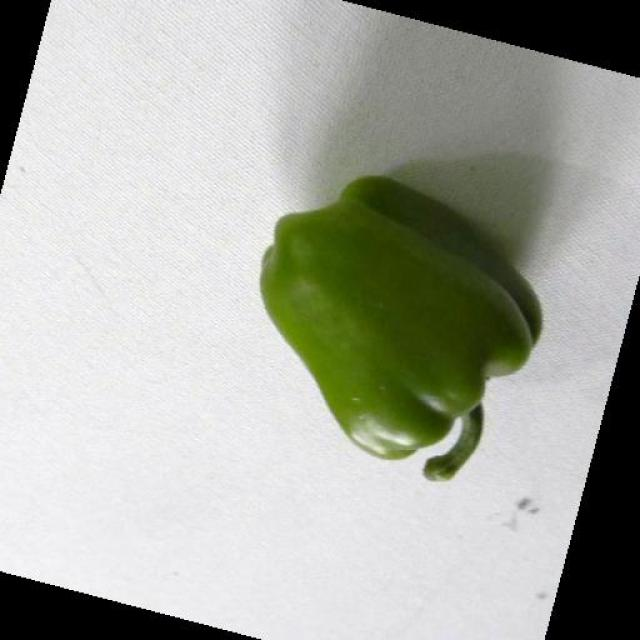Fresh_Capsicum: (244, 181, 529, 452)
